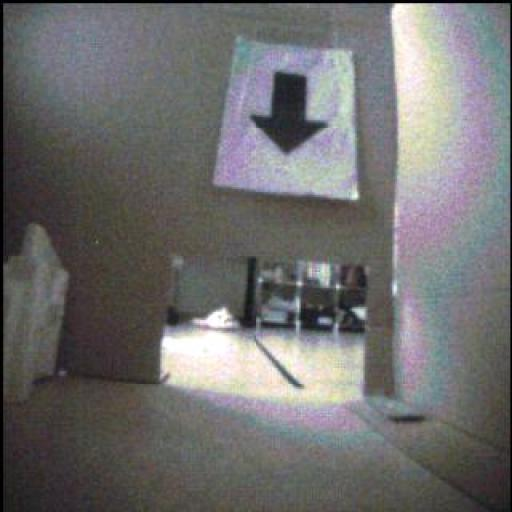arrow: (252, 73, 329, 155)
